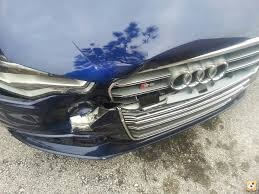Dent: (25, 76, 121, 159)
